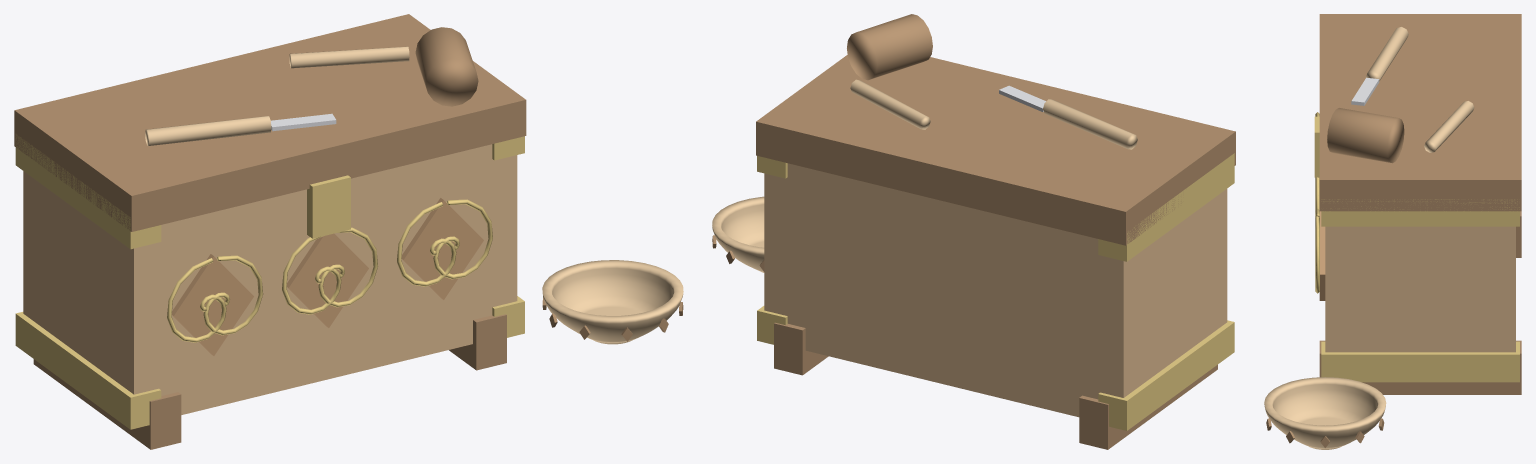
Rendered from sheber.glb.
The picture shows the model from 3 angles, left to right: view 1: azimuth 30°, elevation 25°; view 2: azimuth 150°, elevation 25°; view 3: azimuth 270°, elevation 25°; orthographic projection. The views are drawn at different scales.
Parts seen in each view (by area): view 1: chest, lid, carving (×3), corner (×3), carved-bowl, ram-horn (×6), foot (×2), mallet-head, lock, chisel-handle, mallet-handle, chisel-blade; view 2: chest, lid, corner (×3), foot (×2), mallet-head, carved-bowl, chisel-handle, mallet-handle, chisel-blade; view 3: lid, chest, corner (×2), carved-bowl, mallet-head, foot, chisel-handle, mallet-handle, carving, chisel-blade, ram-horn, lock.
Part boxes in pixels (box(x1,y1,x2,y2)): chest: box(23, 144, 517, 414); lid: box(14, 14, 526, 231); carving (×3): box(171, 198, 483, 355); corner (×3): box(15, 134, 524, 429); carved-bowl: box(542, 260, 683, 344); ram-horn (×6): box(167, 199, 492, 342); foot (×2): box(33, 314, 506, 449); mallet-head: box(415, 27, 478, 106); lock: box(307, 175, 350, 238); chisel-handle: box(145, 116, 271, 145); mallet-handle: box(289, 46, 409, 68); chisel-blade: box(271, 113, 336, 131); chest: box(764, 163, 1227, 417); lid: box(756, 55, 1235, 245); corner (×3): box(757, 153, 1234, 430); foot (×2): box(774, 322, 1217, 449); mallet-head: box(847, 14, 932, 80); carved-bowl: box(712, 196, 764, 272); chisel-handle: box(1043, 99, 1137, 149); mallet-handle: box(850, 79, 930, 129); chisel-blade: box(999, 85, 1045, 111); lid: box(1319, 14, 1521, 211); chest: box(1325, 226, 1515, 352); corner (×2): box(1321, 199, 1519, 382); carved-bowl: box(1264, 377, 1386, 449); mallet-head: box(1327, 108, 1404, 163); foot: box(1319, 340, 1521, 394); chisel-handle: box(1365, 27, 1408, 80); mallet-handle: box(1424, 101, 1474, 152); carving: box(1319, 214, 1325, 300); chisel-blade: box(1351, 77, 1379, 105); ram-horn: box(1315, 216, 1319, 293); lock: box(1314, 116, 1319, 177).
Size of the model in its own units: 2.85 by 1.54 by 1.35.
